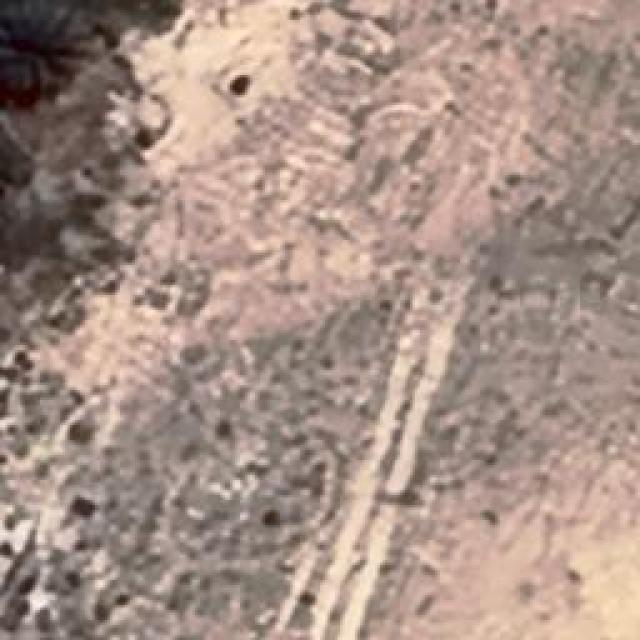PalmTree: (0, 9, 75, 99)
